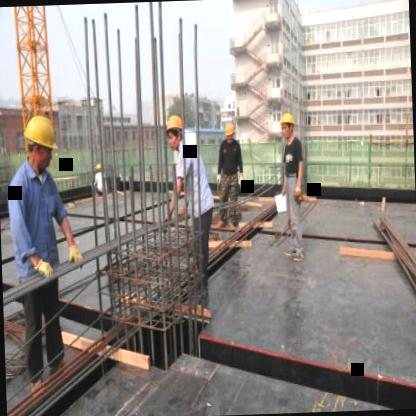helmet: (20, 110, 60, 176), (163, 109, 192, 154), (276, 110, 300, 145), (222, 119, 240, 150), (93, 160, 104, 176)
